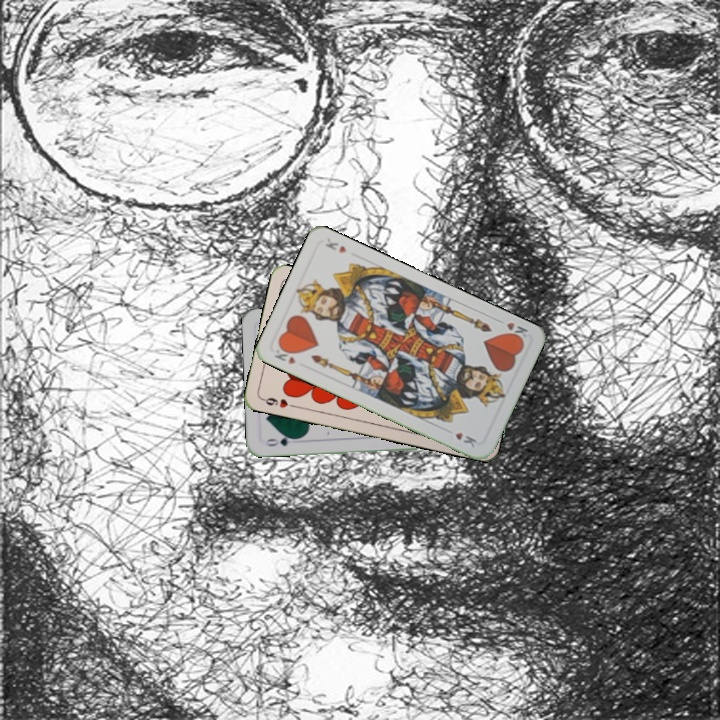GO: (261, 432, 301, 449)
H9: (258, 393, 299, 411)
HK: (501, 318, 530, 344), (270, 342, 299, 367)
